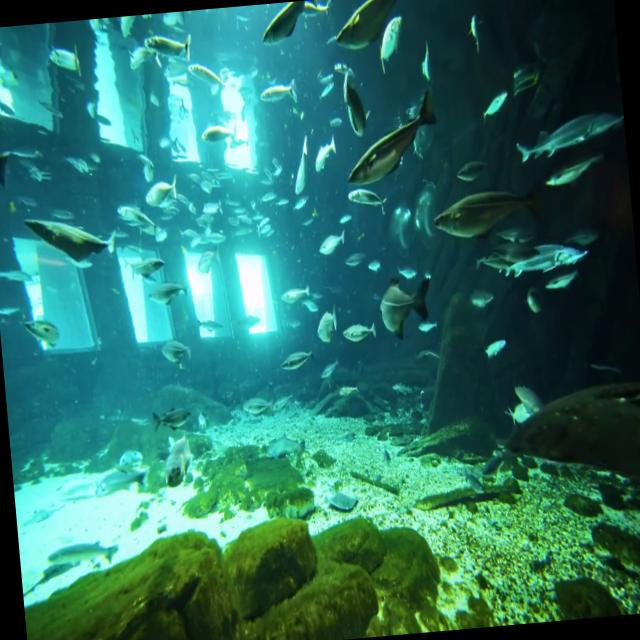fish: (339, 93, 448, 192), (428, 175, 542, 247), (20, 198, 121, 276), (510, 100, 624, 164), (506, 228, 596, 286), (322, 0, 412, 57), (372, 268, 436, 342), (107, 187, 166, 247), (256, 0, 323, 52), (136, 21, 200, 68), (504, 52, 550, 105), (284, 128, 316, 200), (146, 398, 198, 436), (182, 54, 224, 101), (140, 277, 188, 317), (259, 72, 306, 110), (192, 118, 243, 152), (42, 44, 84, 84), (138, 170, 182, 208), (271, 274, 314, 312), (309, 296, 343, 344), (274, 344, 320, 379), (336, 316, 375, 357), (513, 376, 552, 416), (476, 84, 512, 126), (462, 7, 492, 57), (156, 334, 192, 374), (308, 133, 339, 179), (413, 36, 439, 90), (478, 325, 510, 367), (314, 226, 347, 266), (126, 254, 167, 282), (0, 139, 19, 193), (523, 282, 546, 325)
